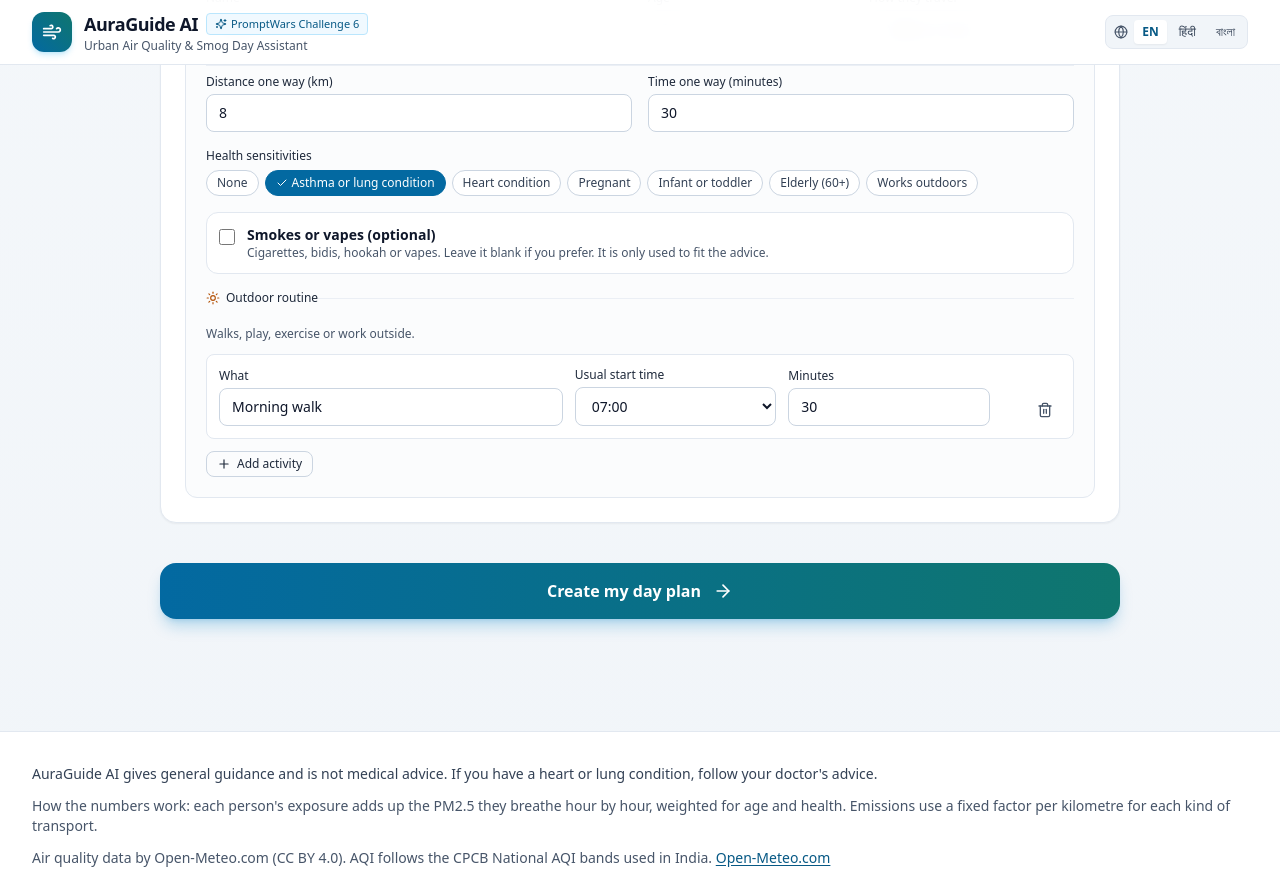
Test: HomePage › tells screen readers that the plan is loading
The image size is (1280, 896).
(page scrolled)
Click the button "Create my day plan" at coordinates (640, 591), box [160,563,1120,619]
(page scrolled)
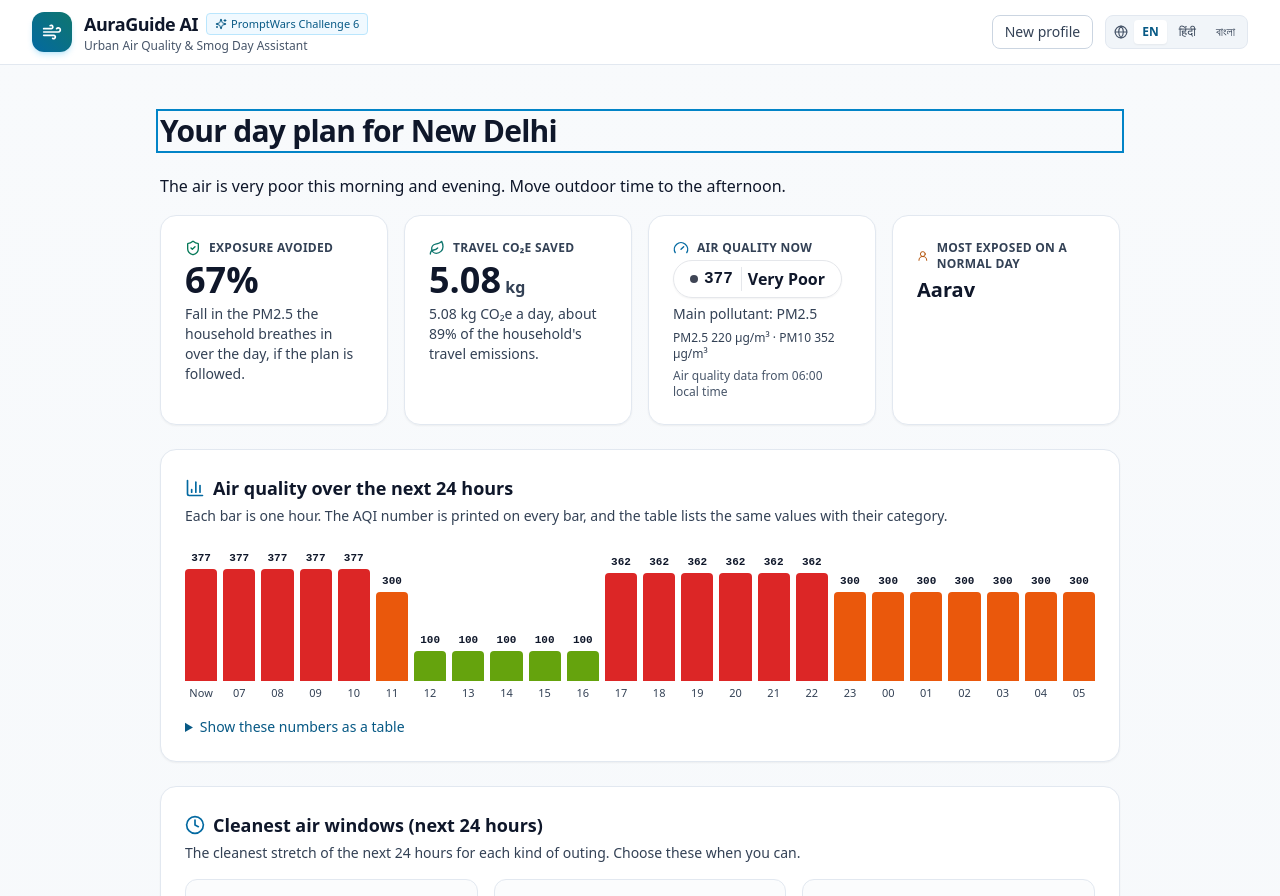
Check: the heading "Your day plan for New Delhi" is shown, box [160,110,557,151]
